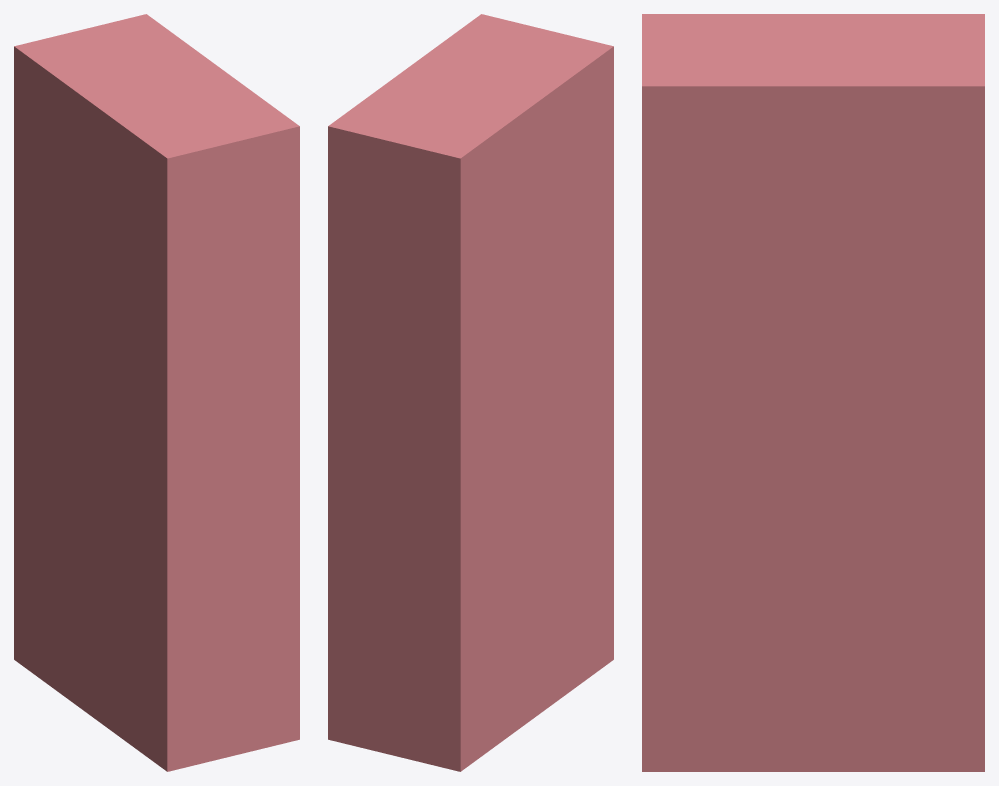
Rendered from Fixed BRICK wall.fbx.
3 renders of one model, left to right at view 1: azimuth 30°, elevation 25°; view 2: azimuth 150°, elevation 25°; view 3: azimuth 270°, elevation 25°, orthographic. The views are drawn at different scales.
Parts seen in each view (by area): view 1: Brick wall.001; view 2: Brick wall.001; view 3: Brick wall.001.
Part boxes in pixels (box(x1,y1,x2,y2)): Brick wall.001: box(14, 14, 299, 771); Brick wall.001: box(328, 14, 613, 771); Brick wall.001: box(642, 14, 984, 771).
Size of the model in its own units: 53.85 by 238 by 108.
